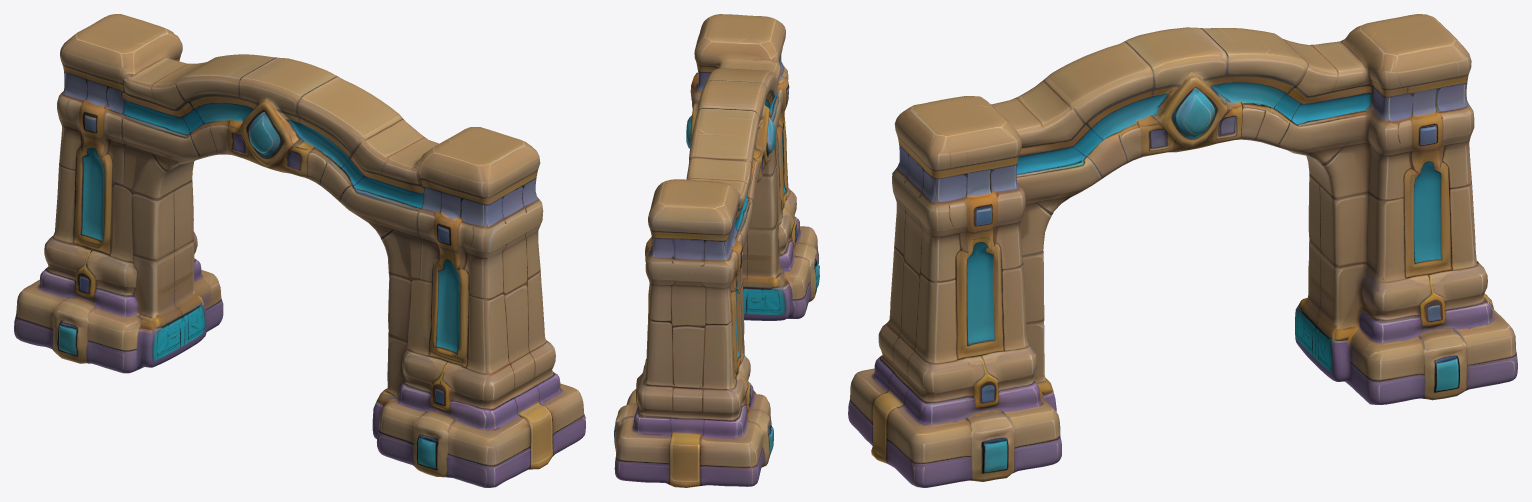
The model's file is 05-garden-main-gate.glb.
The picture shows the model from 3 angles, left to right: view 1: azimuth 30°, elevation 25°; view 2: azimuth 150°, elevation 25°; view 3: azimuth 270°, elevation 25°; orthographic projection. The views are drawn at different scales.
Parts seen in each view (by area): view 1: tripo_node_4f99d8b9; view 2: tripo_node_4f99d8b9; view 3: tripo_node_4f99d8b9.
Boxes of the visible parts, x1,y1,x2,y2 form: tripo_node_4f99d8b9: (14,14,585,487); tripo_node_4f99d8b9: (614,14,819,487); tripo_node_4f99d8b9: (848,14,1517,487).
Size of the model in its own units: 1.29 by 1.2 by 2.06.
1 material, 1 textured.
